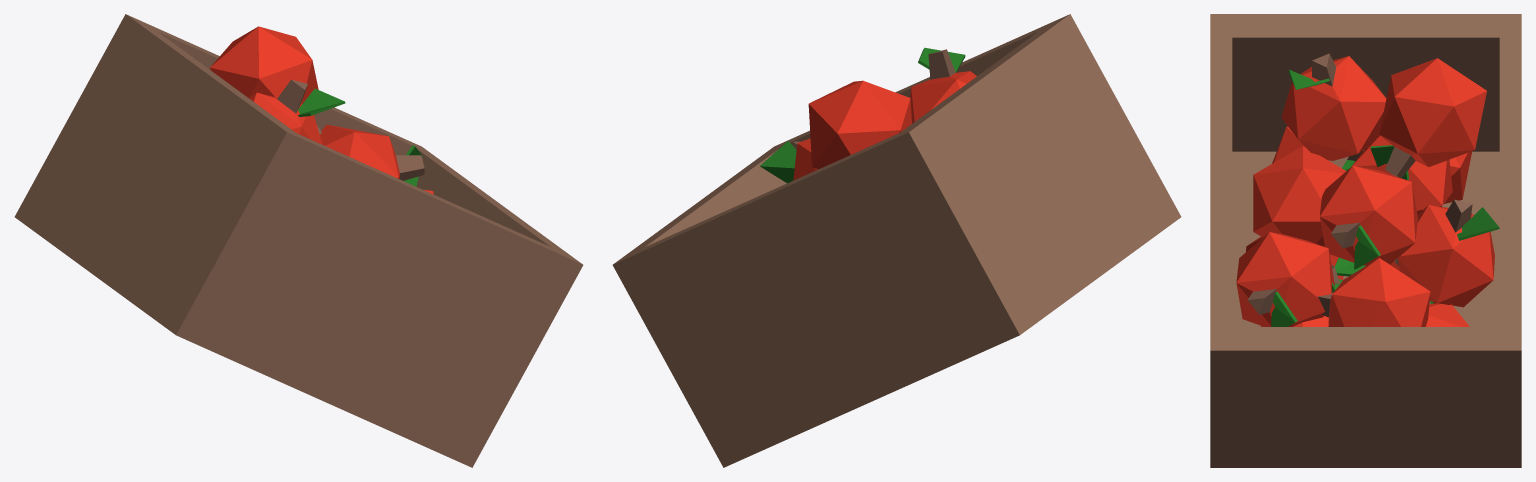
Rendered from AppleBox.fbx.
3 renders of one model, left to right at view 1: azimuth 30°, elevation 25°; view 2: azimuth 150°, elevation 25°; view 3: azimuth 270°, elevation 25°, orthographic. The views are drawn at different scales.
Parts seen in each view (by area): view 1: Cube.004, Icosphere.015, Icosphere.013, Icosphere.014, Cube.030; view 2: Cube.004, Icosphere.015, Icosphere.014, Cube.028, Icosphere.013; view 3: Cube.004, Icosphere.015, Icosphere.014, Icosphere.013, Icosphere.012, Icosphere.009, Icosphere.005, Icosphere.006, Icosphere.007, Icosphere.010, Icosphere.002, Cube.024 (+6 smaller).
Part boxes in pixels (left/top/right/bottom): Cube.004: left=14, top=14, right=583, bottom=467; Icosphere.015: left=210, top=26, right=321, bottom=134; Icosphere.013: left=320, top=124, right=424, bottom=180; Icosphere.014: left=250, top=79, right=322, bottom=144; Cube.030: left=298, top=88, right=345, bottom=116; Cube.004: left=612, top=14, right=1181, bottom=467; Icosphere.015: left=808, top=80, right=911, bottom=169; Icosphere.014: left=910, top=49, right=976, bottom=123; Cube.028: left=760, top=141, right=796, bottom=183; Icosphere.013: left=793, top=138, right=817, bottom=180; Cube.004: left=1210, top=14, right=1521, bottom=467; Icosphere.015: left=1379, top=58, right=1486, bottom=177; Icosphere.014: left=1281, top=53, right=1386, bottom=160; Icosphere.013: left=1319, top=165, right=1417, bottom=265; Icosphere.012: left=1236, top=232, right=1334, bottom=326; Icosphere.009: left=1397, top=199, right=1494, bottom=307; Icosphere.005: left=1253, top=146, right=1348, bottom=246; Icosphere.006: left=1318, top=258, right=1430, bottom=326; Icosphere.007: left=1351, top=135, right=1452, bottom=214; Icosphere.010: left=1444, top=151, right=1472, bottom=203; Icosphere.002: left=1426, top=301, right=1469, bottom=326; Cube.024: left=1457, top=207, right=1499, bottom=240.
Bounding box in the file's own units: 132 × 118 × 90.87.
